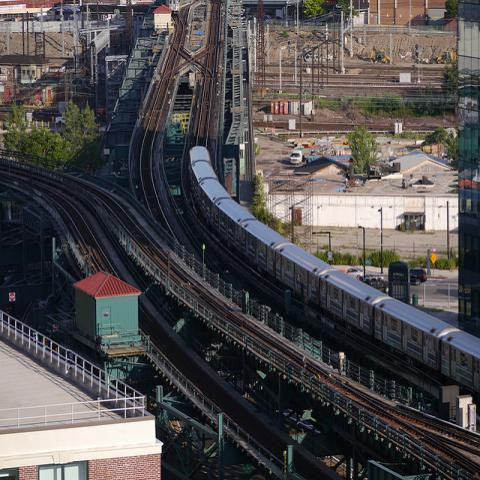car: (409, 268, 428, 288), (345, 266, 364, 281)
truck: (359, 273, 389, 293), (410, 268, 426, 286), (289, 150, 303, 166)
